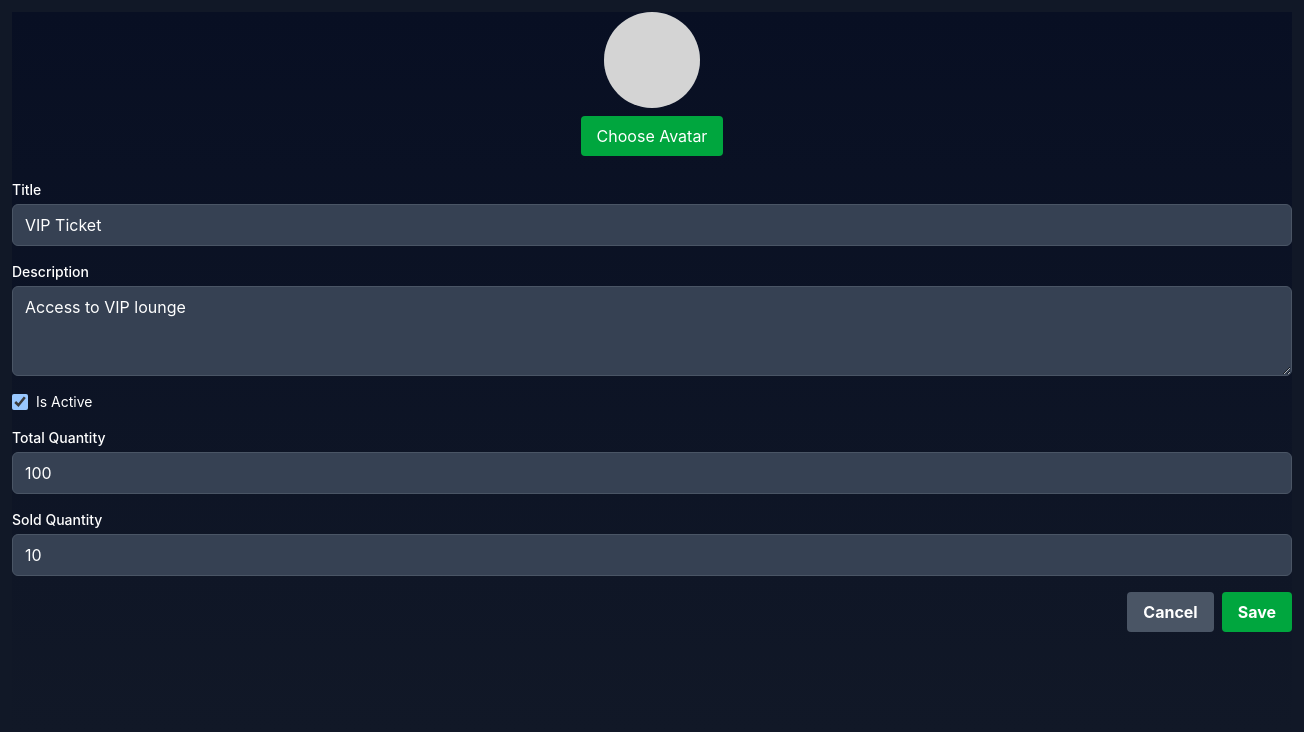
Scenario: TicketTypeForm › validates required avatar image
The width and height of the screenshot is (1304, 732).
Click the button "Save". click: (1257, 612)
box: x1=1222 y1=592 x2=1292 y2=632
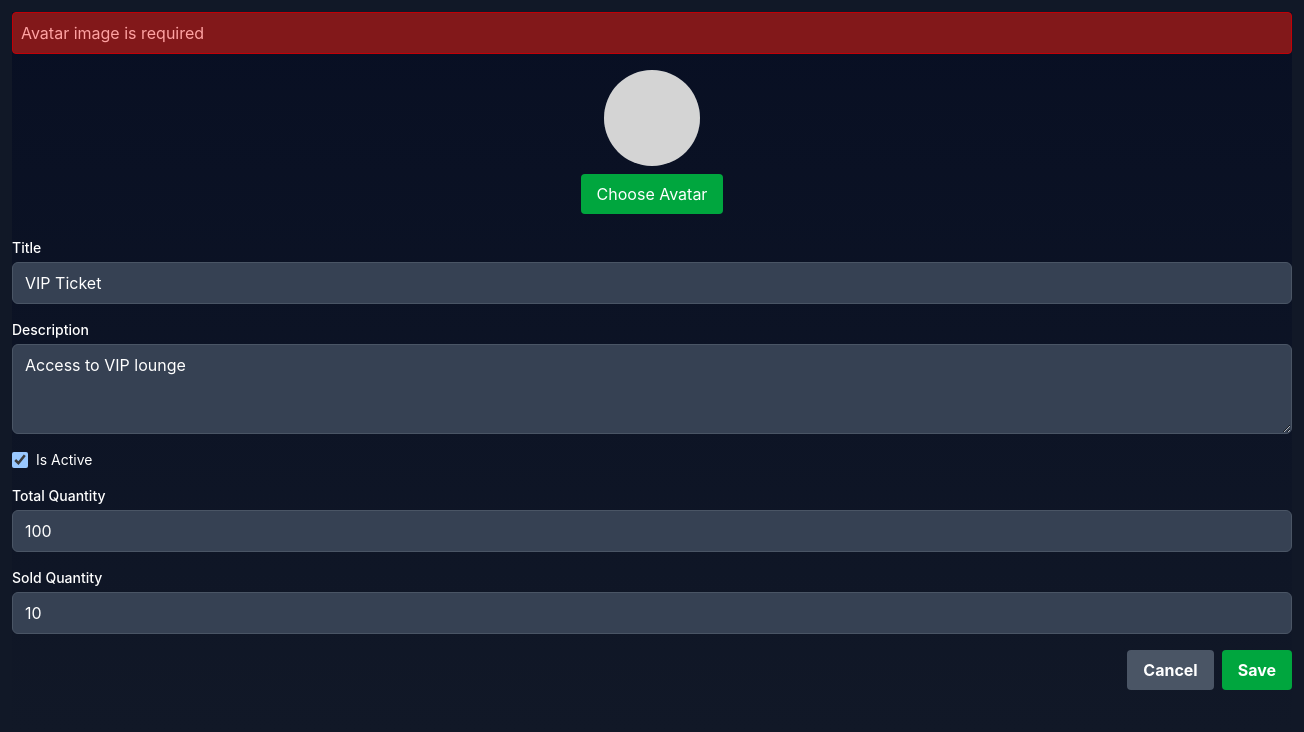
Expected: the text "Avatar image is required" is shown, x1=12 y1=12 x2=1292 y2=54
